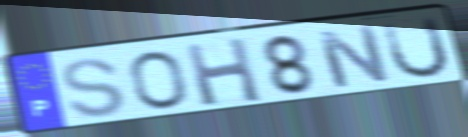8: (260, 33, 316, 97)
H: (182, 35, 266, 109)
N: (313, 23, 394, 91)
O: (126, 49, 191, 111)
S: (58, 56, 128, 120)
U: (380, 14, 453, 82)
